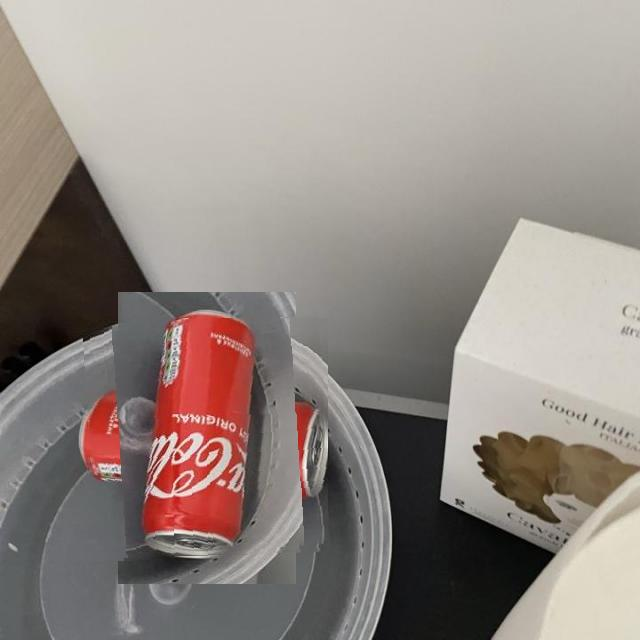recyclable: (86, 318, 328, 559)
